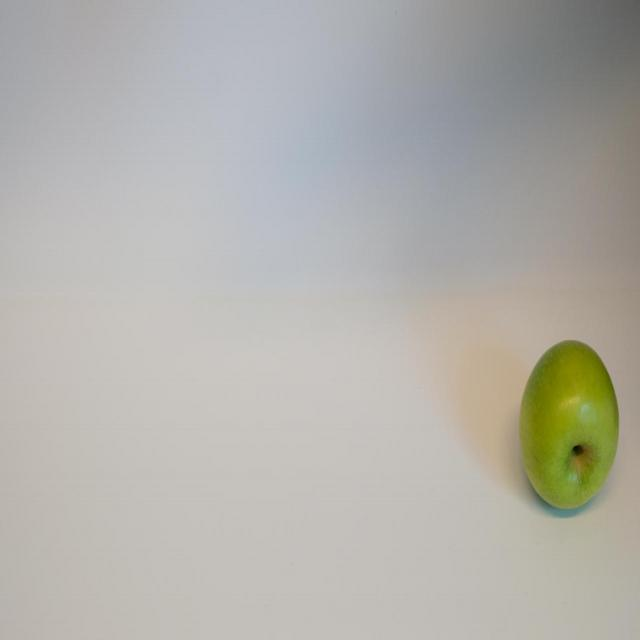apple: (519, 337, 620, 513)
